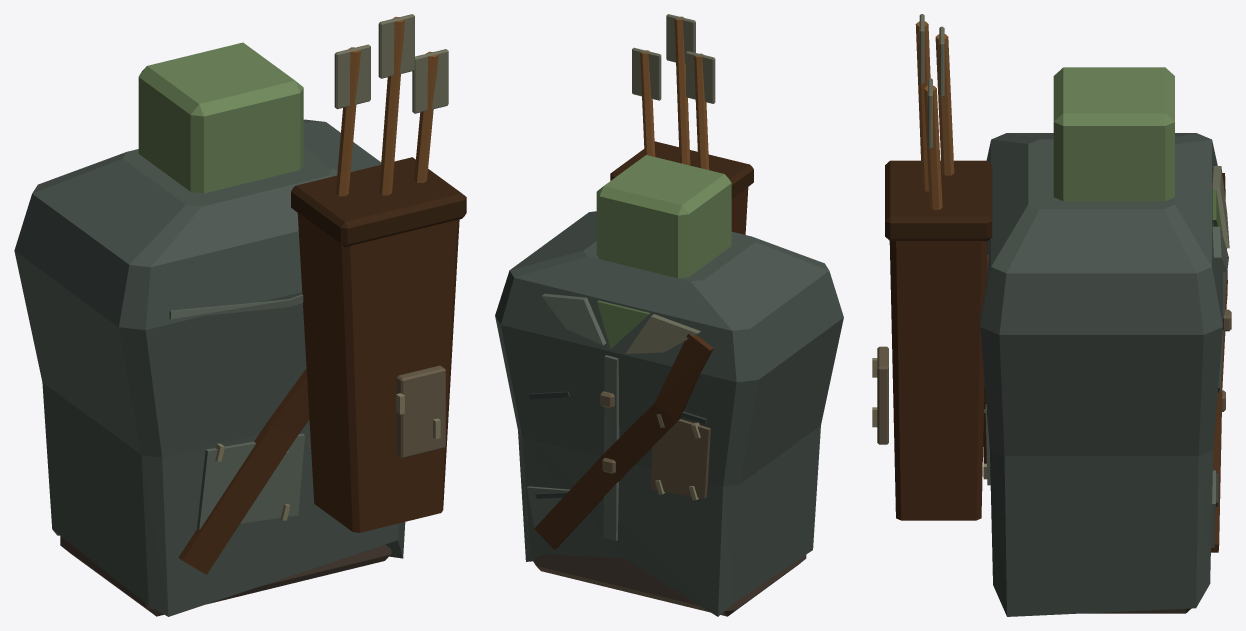
The model's file is Body.glb.
3 views of the same model, side by side, from view 1: azimuth 30°, elevation 25°; view 2: azimuth 150°, elevation 25°; view 3: azimuth 270°, elevation 25° (orthographic). The views are drawn at different scales.
Parts seen in each view (by area): view 1: Sculpture; view 2: Sculpture; view 3: Sculpture.
Part boxes in pixels (left/top/right/bottom): Sculpture: left=14, top=14, right=466, bottom=616; Sculpture: left=495, top=14, right=843, bottom=616; Sculpture: left=872, top=14, right=1231, bottom=616.
Size of the model in its own units: 0.57 by 0.9925 by 0.5626.
